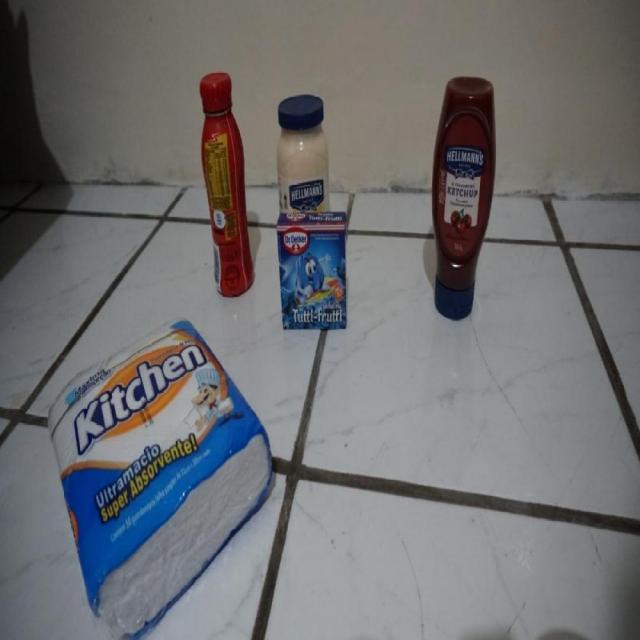ChocolateMilk: (200, 71, 256, 299)
Gelatine: (278, 211, 348, 332)
Ketchup: (430, 73, 498, 318)
Mayonnaise: (276, 93, 331, 214)
Napkin: (48, 316, 272, 640)
